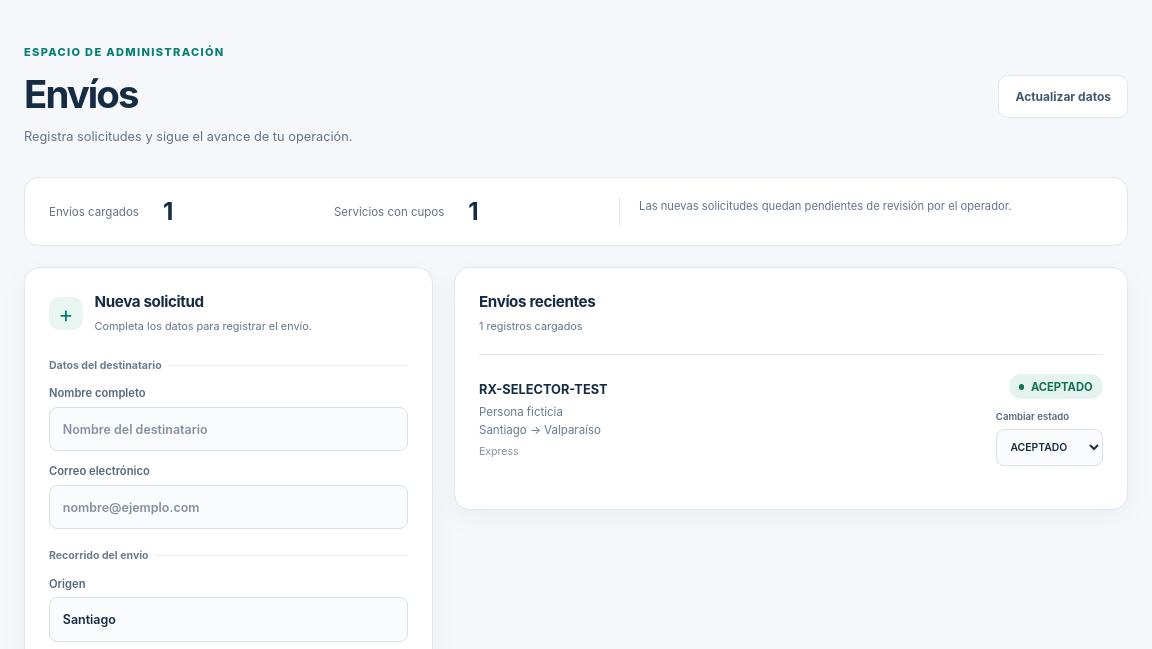
Test: Disponibilidad de la operación administrativa › restaura el selector si el backend rechaza una transición
Step 1. Select "CREADO" in the dropdown labelled "Cambiar estado" → (1049, 447), box [996, 429, 1103, 466]
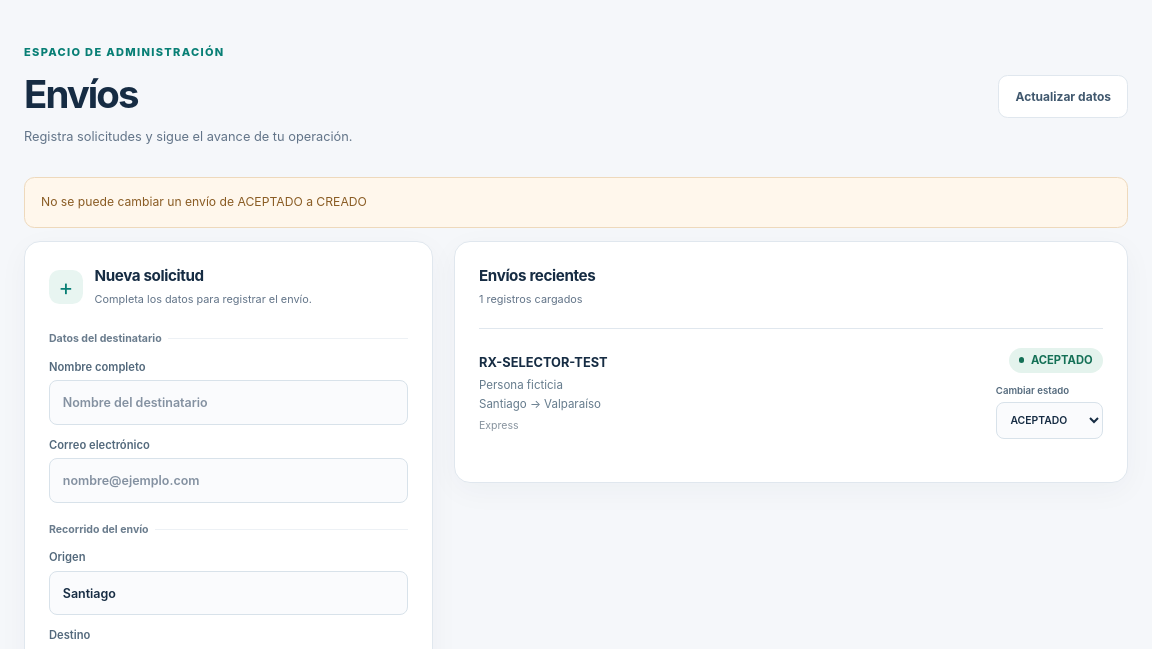
Expected: the text "ACEPTADO" is shown, [1008, 348, 1103, 373]
Expected: the message "No se puede cambiar un envío de ACEPTADO a CREADO" is shown, [24, 177, 1128, 228]
